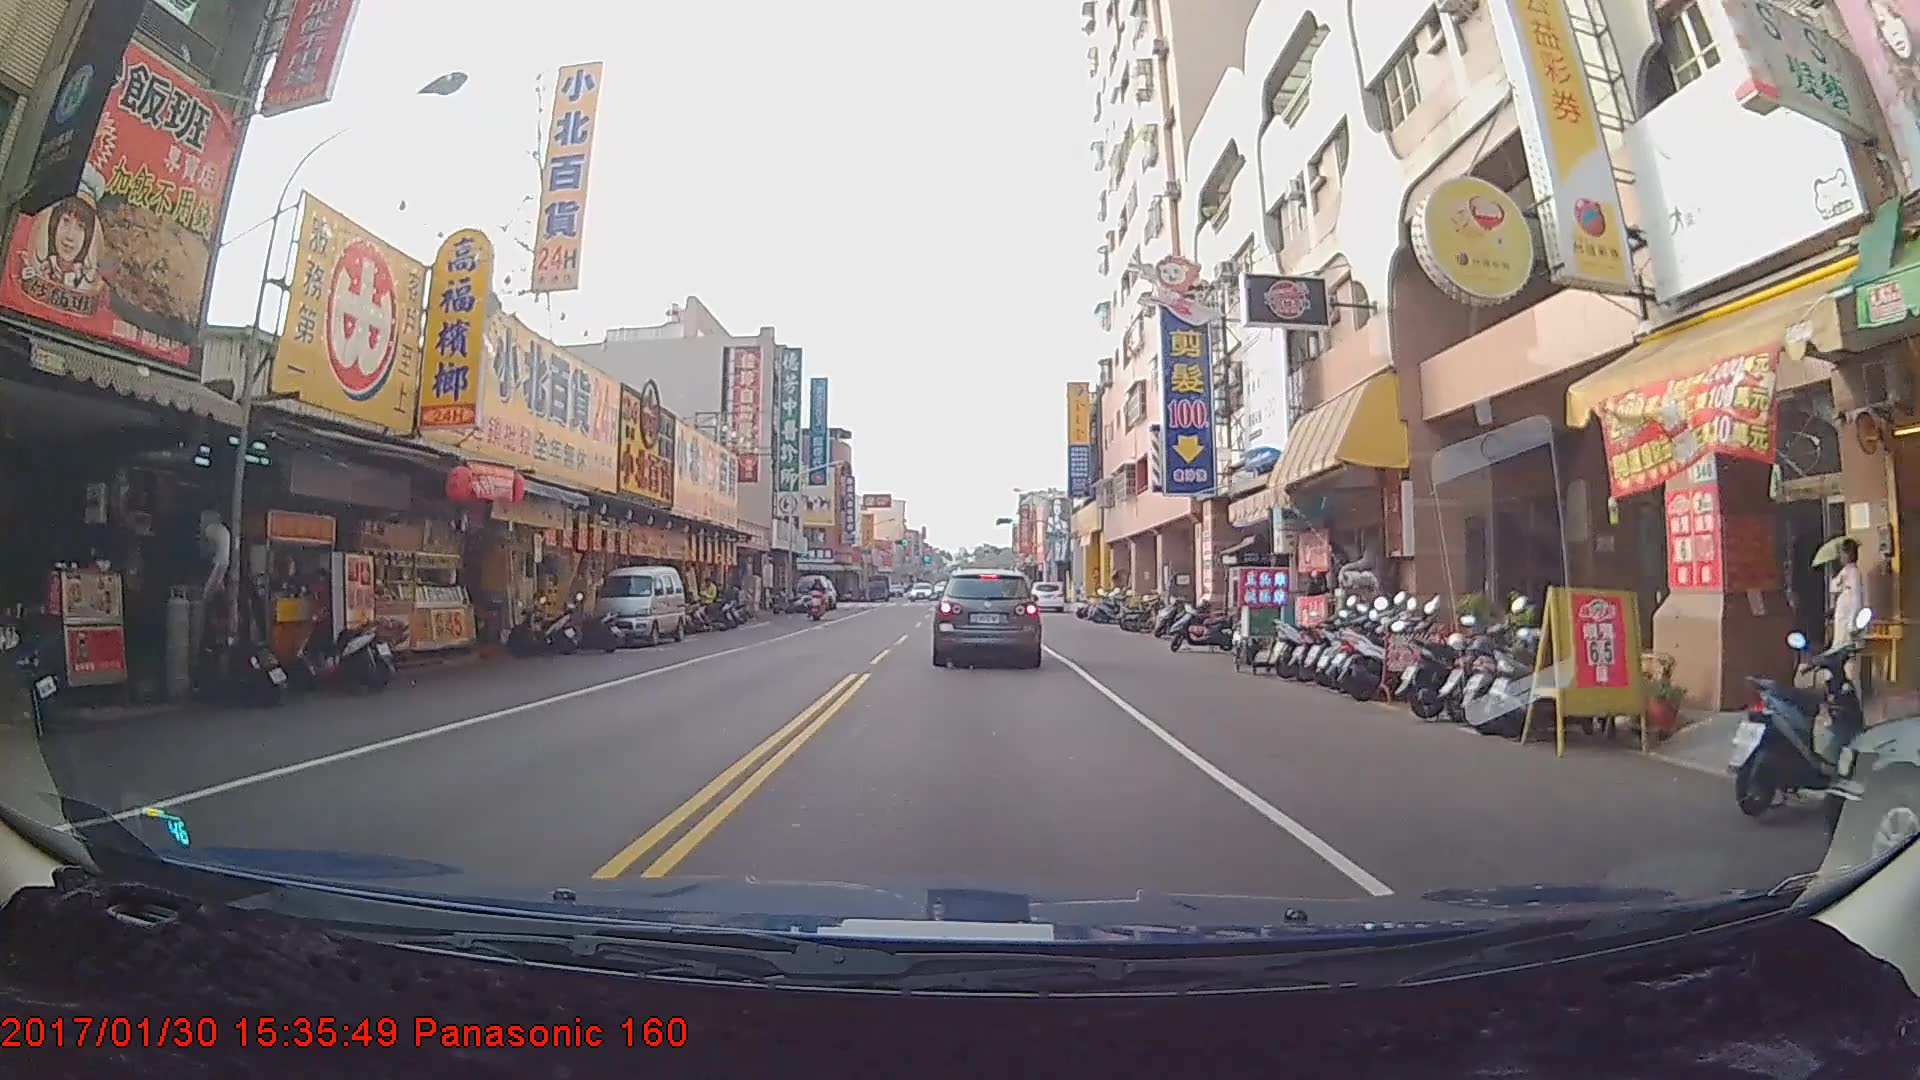pedestrian: (1814, 535, 1869, 736), (691, 575, 719, 626)
rider: (806, 575, 830, 622)
vehicle: (931, 566, 1042, 669), (586, 563, 685, 644), (796, 572, 831, 610), (1030, 582, 1064, 614)
